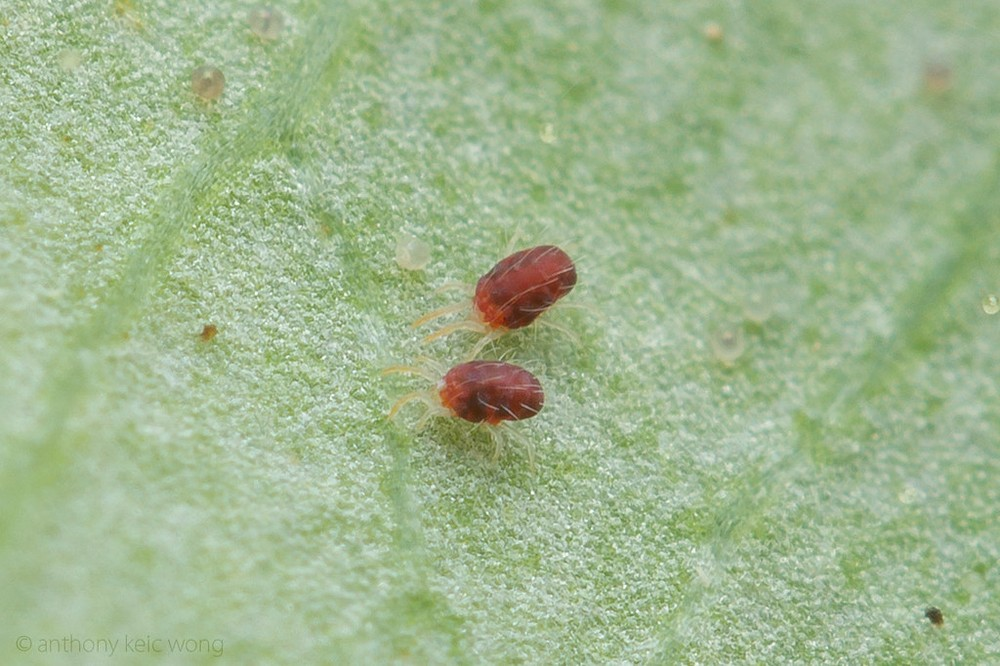Aracnido Rojo: (389, 231, 608, 360), (366, 348, 572, 470)
